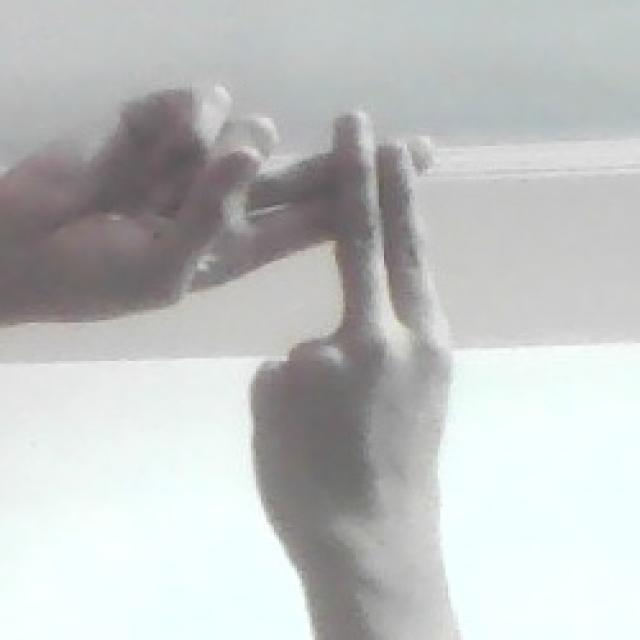Alphabet-F: (31, 80, 463, 550)
